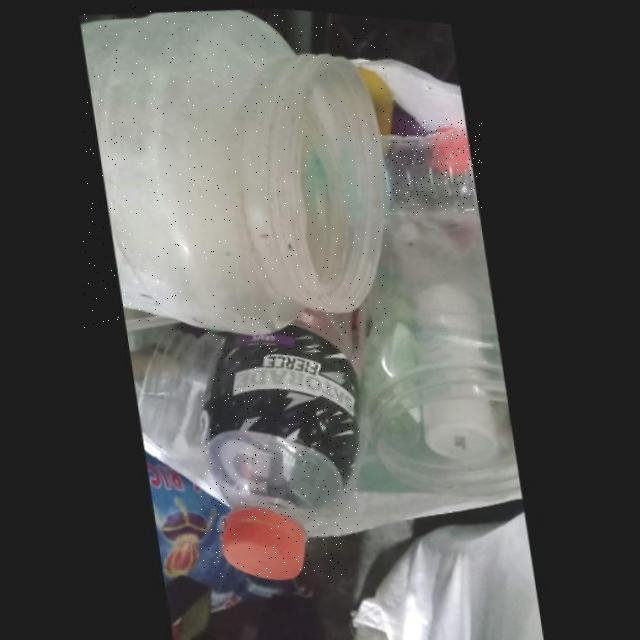plastic: (83, 6, 388, 333), (201, 303, 359, 576), (383, 119, 482, 214)
